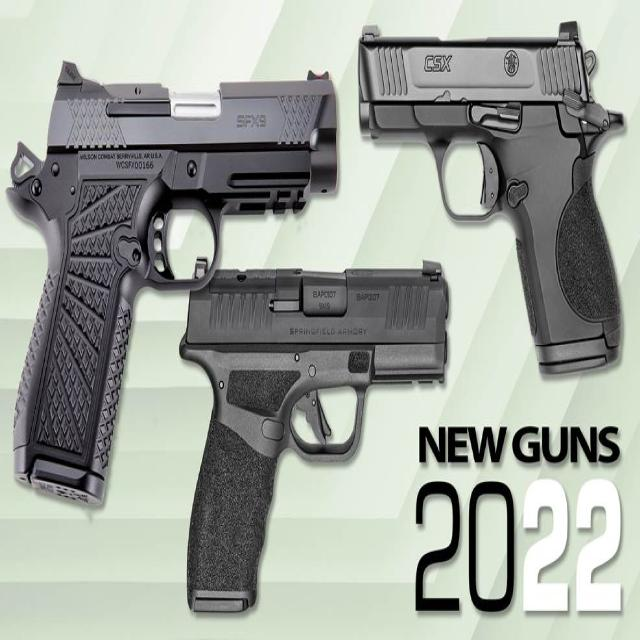HandGun: (6, 62, 340, 513), (180, 260, 450, 617), (358, 22, 624, 380)
